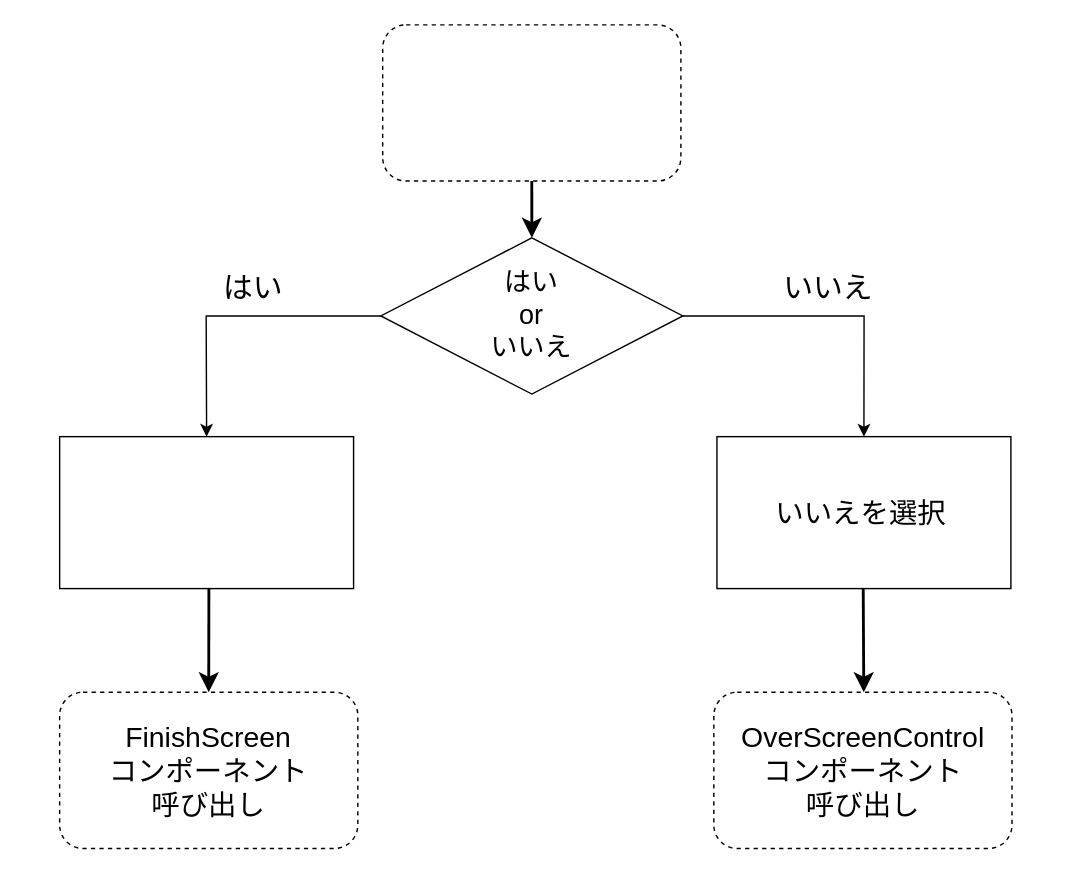
This 1075x873 diagram has some shape labels left out. The shapes that lost their labels are listed below. From the top down, each one's box as (x1, y1, x2, y2) in pixels, then its label:
(381, 23, 681, 181): CancelInfChange オーバーレイ呼び出し
(58, 435, 354, 589): はいを選択
